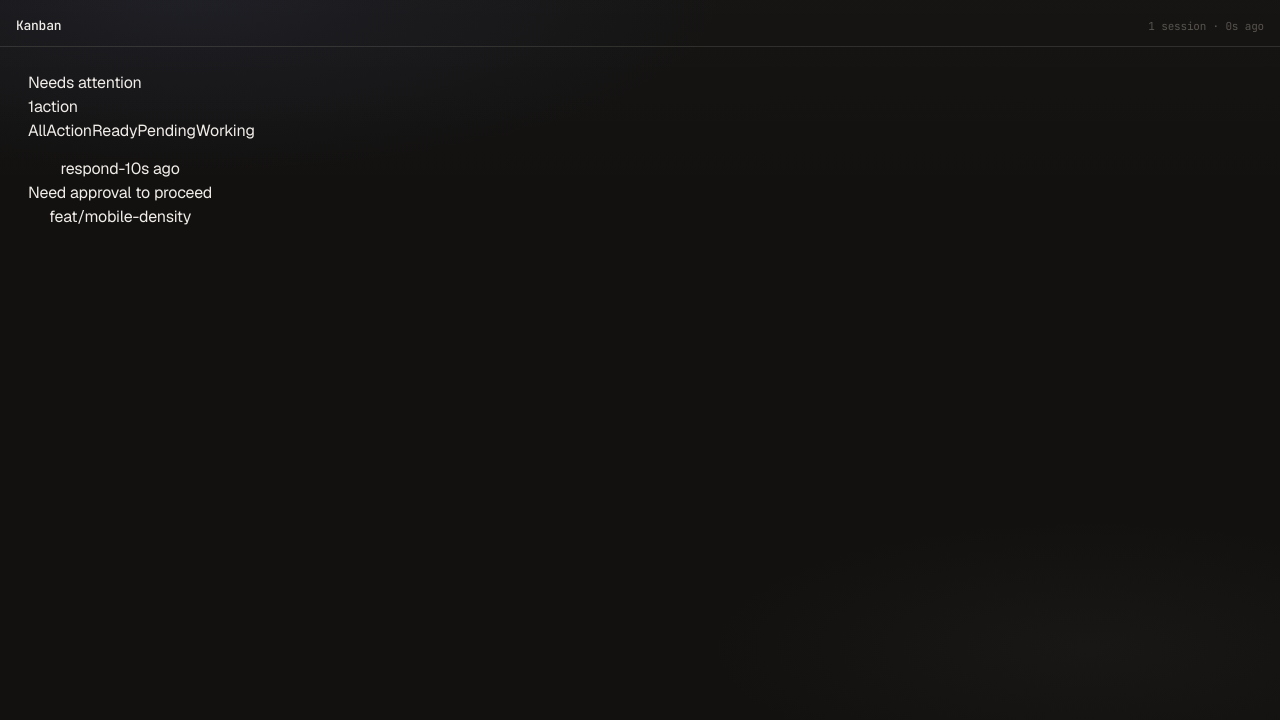
Dashboard mobile layout › opens a preview sheet from a mobile feed card
expect the text "feat/mobile-density" is shown: met, box x1=49 y1=206 x2=191 y2=227
Step 1. Click the button "respond-10s ago Need approval to proceed feat/mobile-density" → {"x": 120, "y": 193}, box x1=28 y1=157 x2=212 y2=229
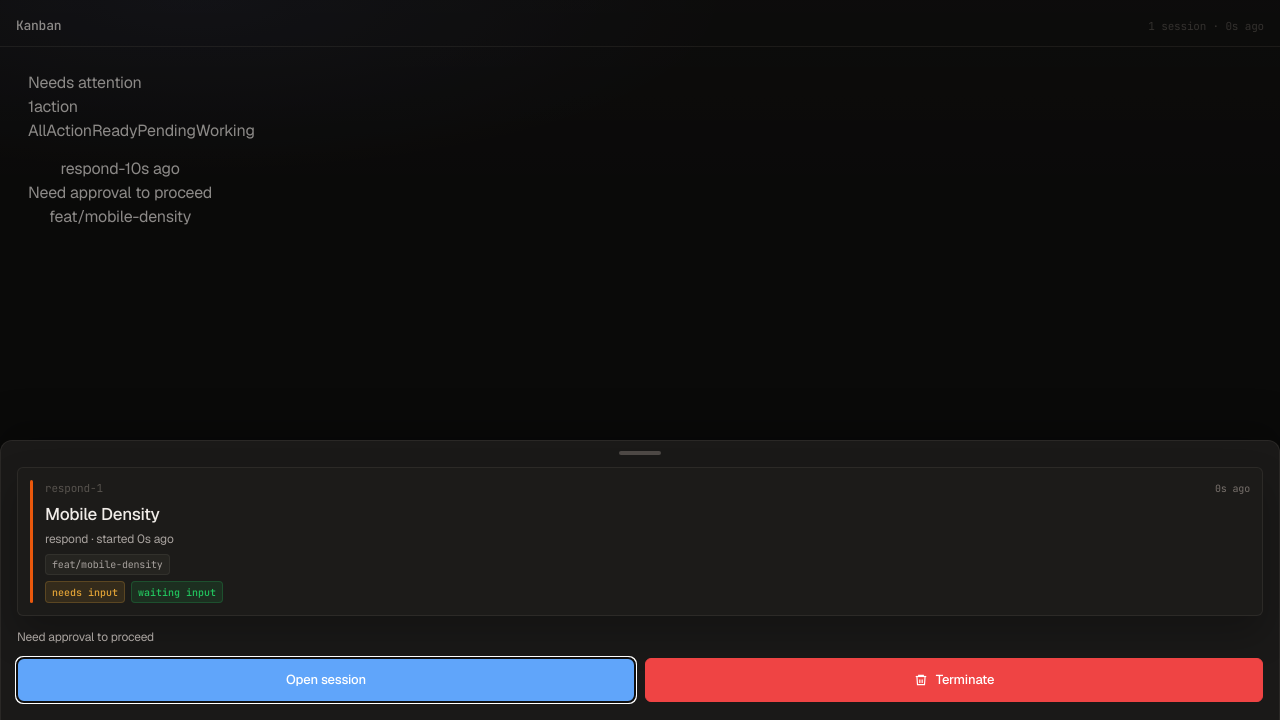
expect the link "Open session" is shown: met, box x1=17 y1=658 x2=635 y2=702
expect the button "Terminate" is shown: met, box x1=645 y1=658 x2=1263 y2=702
